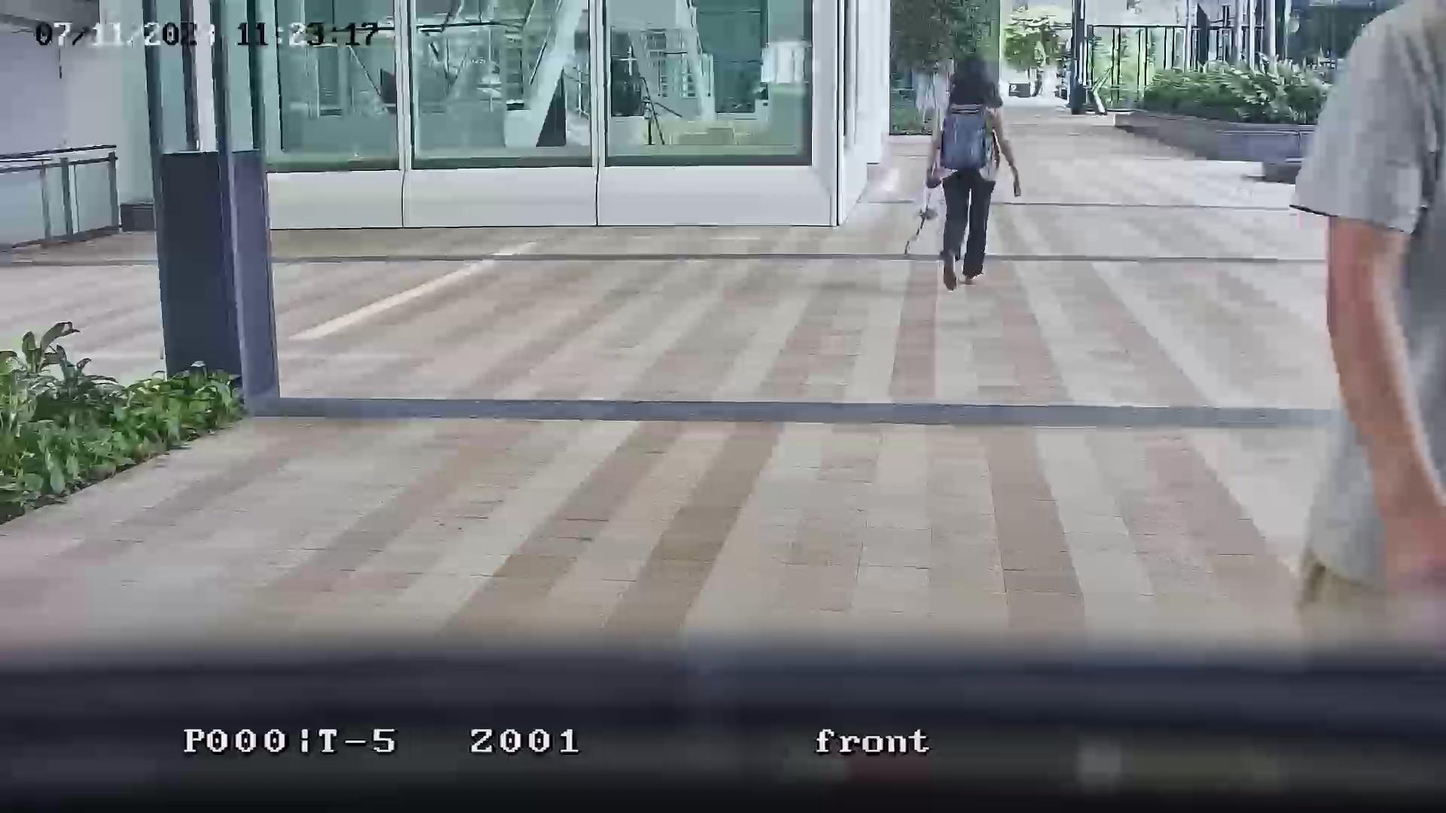person: (1291, 1, 1445, 638), (927, 59, 1022, 292)
